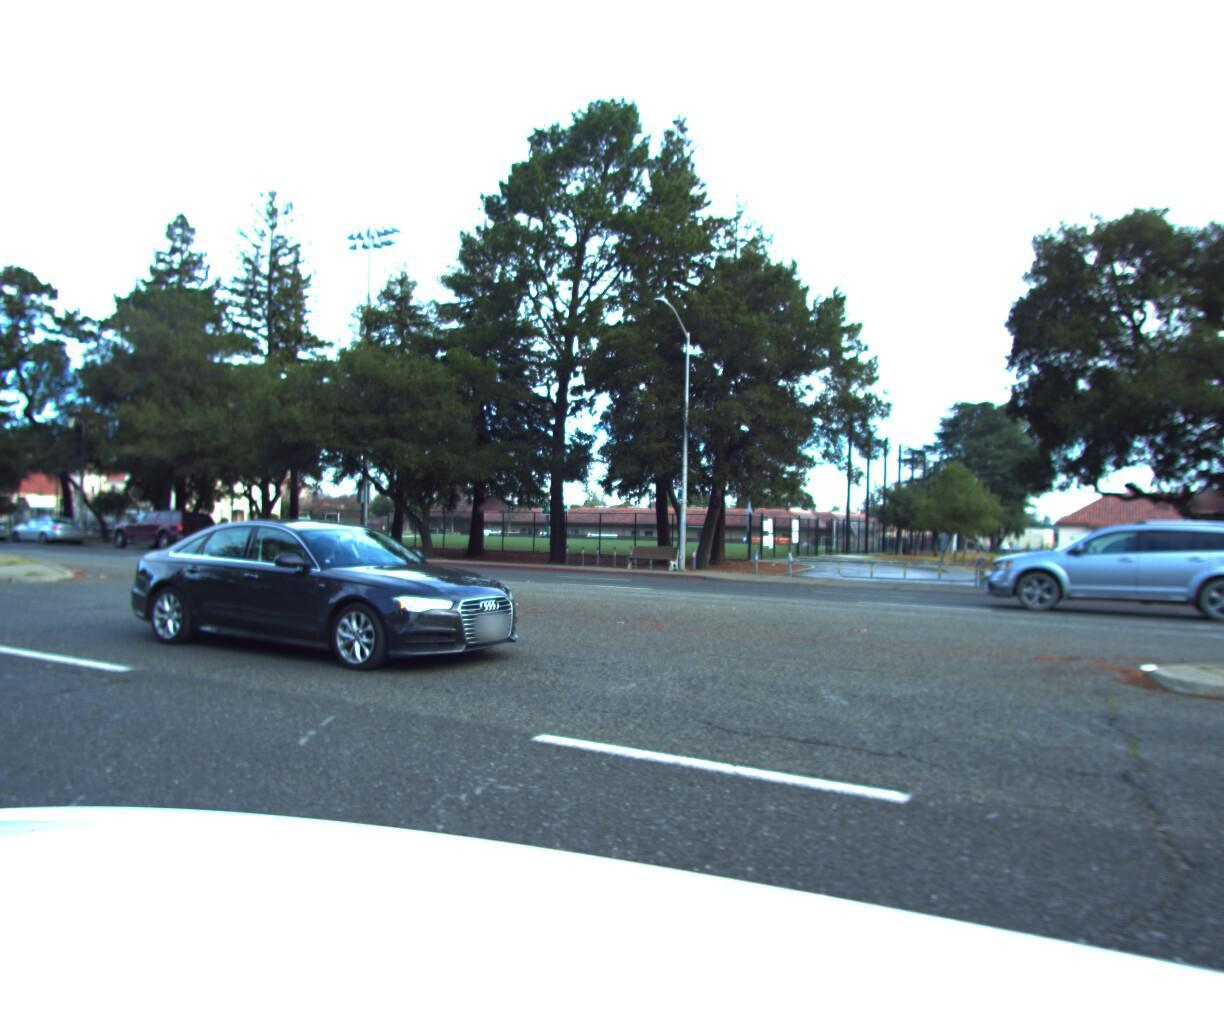car: (120, 510, 548, 681), (985, 510, 1224, 623), (103, 502, 222, 549), (3, 511, 91, 543)
